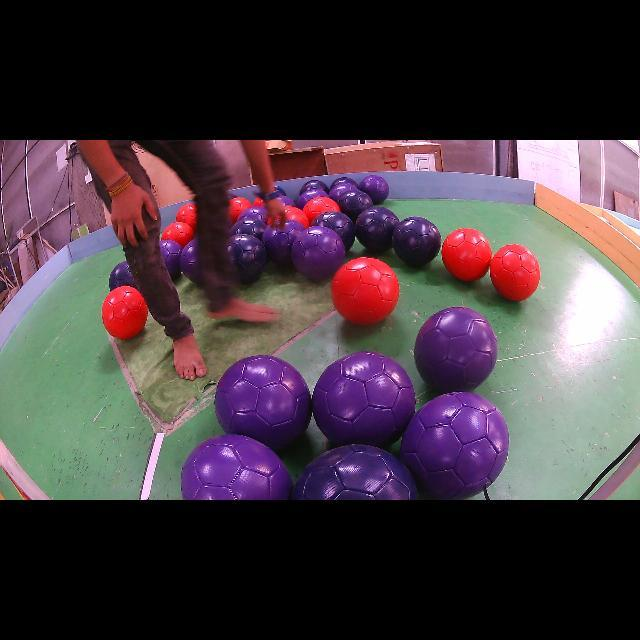B: (292, 444, 418, 500), (391, 216, 441, 266), (355, 206, 399, 254), (228, 234, 268, 284), (311, 211, 355, 251), (338, 189, 372, 224), (109, 261, 136, 291), (230, 218, 266, 240), (300, 180, 329, 194), (330, 178, 359, 189)
P: (401, 392, 509, 499), (312, 351, 415, 446), (215, 355, 311, 450), (181, 434, 292, 500), (415, 306, 498, 392), (291, 226, 345, 280), (261, 220, 305, 265), (180, 239, 202, 285), (160, 240, 182, 280), (359, 175, 389, 204), (296, 189, 328, 210), (329, 182, 358, 202), (238, 206, 268, 224), (279, 195, 296, 206)
R: (331, 258, 400, 325), (490, 244, 540, 301), (441, 228, 492, 281), (101, 286, 148, 339), (302, 196, 340, 224), (161, 221, 194, 248), (176, 204, 198, 232), (229, 198, 252, 224), (285, 206, 309, 229)
